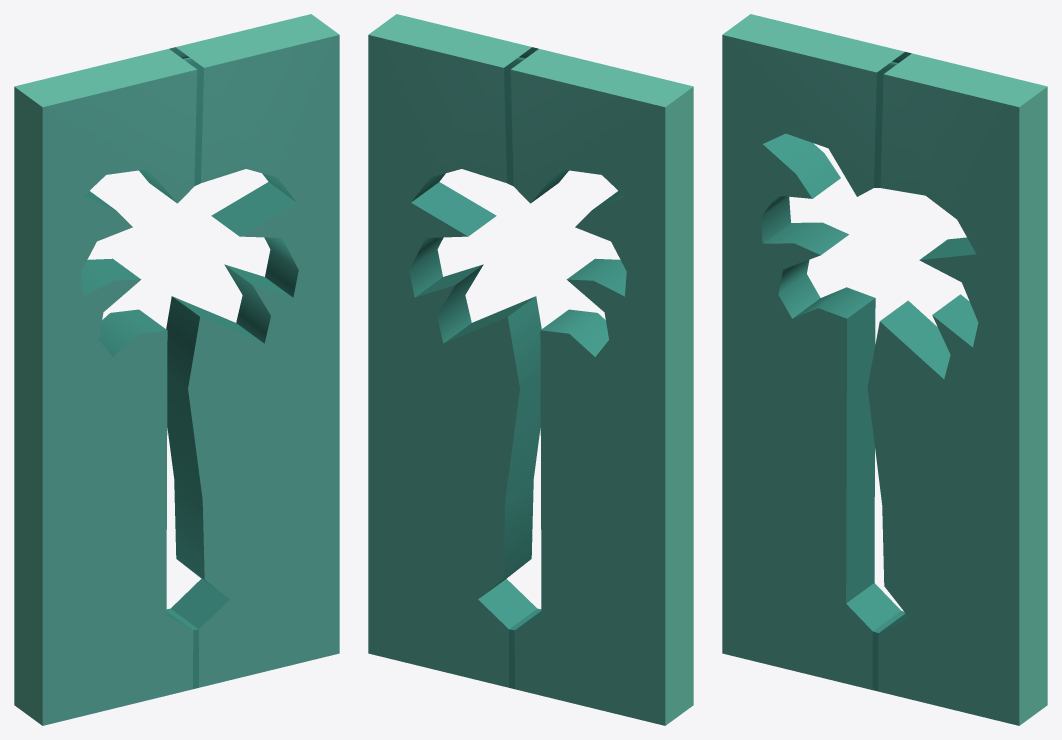
File: BlizzardBeachPalmShutter.glb
3 renders of one model, left to right at view 1: azimuth 30°, elevation 25°; view 2: azimuth 150°, elevation 25°; view 3: azimuth 330°, elevation 25°, orthographic.
Parts seen in each view (by area): view 1: BlizzardBeachPalmShutter; view 2: BlizzardBeachPalmShutter; view 3: BlizzardBeachPalmShutter.
Part boxes in pixels (x1,y1,x2,y2): BlizzardBeachPalmShutter: [14, 14, 339, 725]; BlizzardBeachPalmShutter: [368, 14, 693, 725]; BlizzardBeachPalmShutter: [722, 14, 1047, 725].
Bounding box in the file's own units: 0.5224 × 1.04 × 0.0866.
